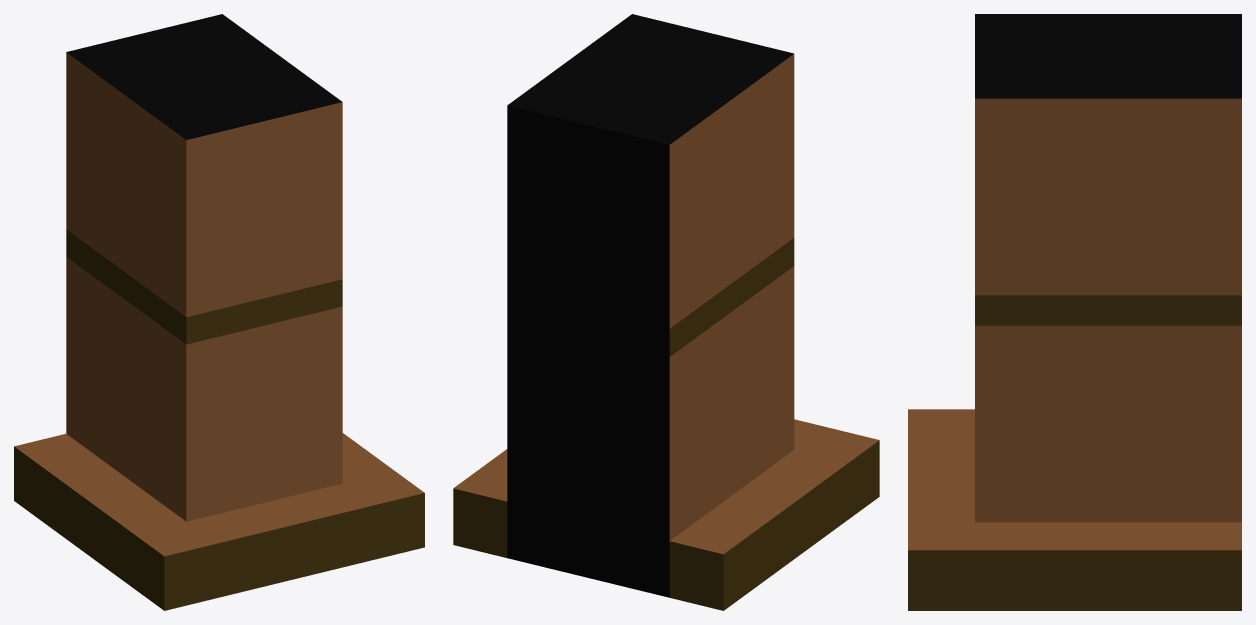
Rendered from corner3.FBX.
The picture shows the model from 3 angles, left to right: view 1: azimuth 30°, elevation 25°; view 2: azimuth 150°, elevation 25°; view 3: azimuth 270°, elevation 25°; orthographic projection. The views are drawn at different scales.
Parts seen in each view (by area): view 1: corner3_wall, Box000, Box001, Box002; view 2: corner3_wall, Box001, Box002, Box000; view 3: corner3_wall, Box002, Box000.
Boxes of the visible parts, x1,y1,x2,y2 form: corner3_wall: (66, 14, 342, 521); Box000: (134, 471, 424, 610); Box001: (14, 434, 185, 588); Box002: (342, 433, 394, 483); corner3_wall: (507, 14, 794, 597); Box001: (669, 450, 848, 610); Box002: (453, 449, 507, 557); Box000: (794, 419, 879, 518); corner3_wall: (975, 14, 1241, 522); Box002: (975, 522, 1241, 610); Box000: (908, 409, 974, 610).
Bounding box in the file's own units: 100 × 160 × 100.
